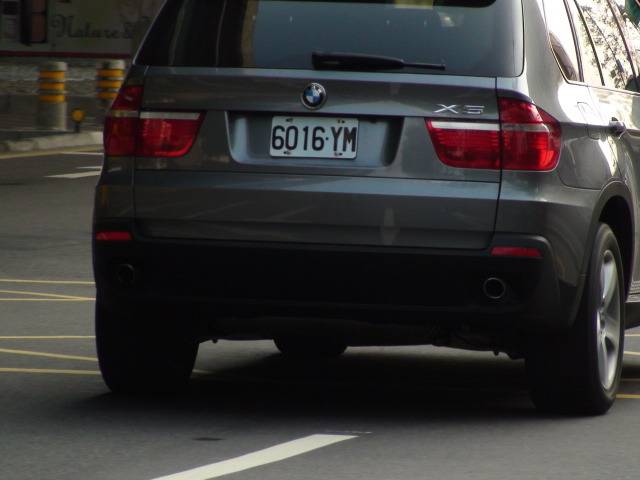plate: (267, 110, 361, 163)
